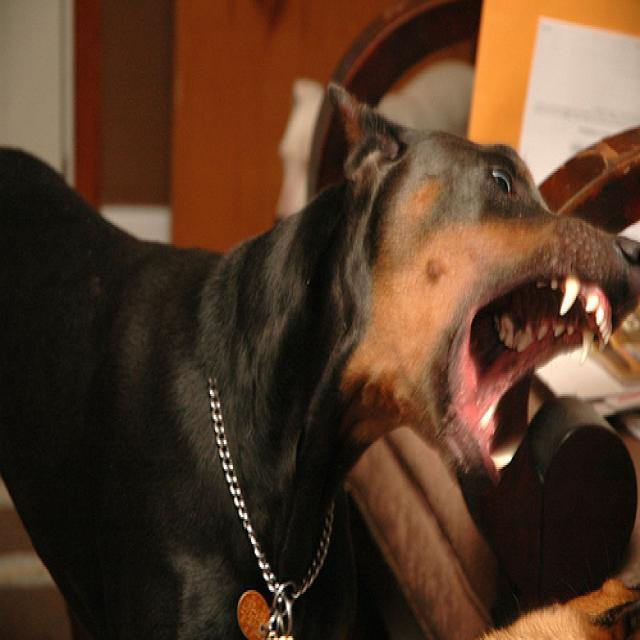dog: (1, 82, 640, 639)
